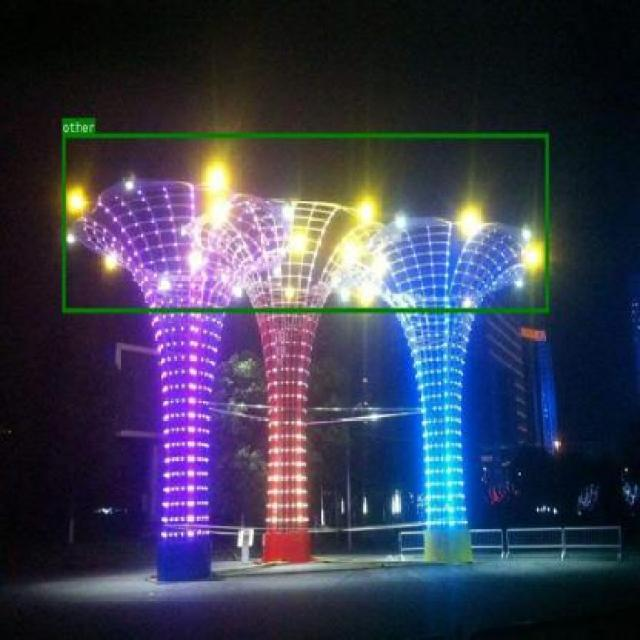other: (61, 132, 548, 311)
